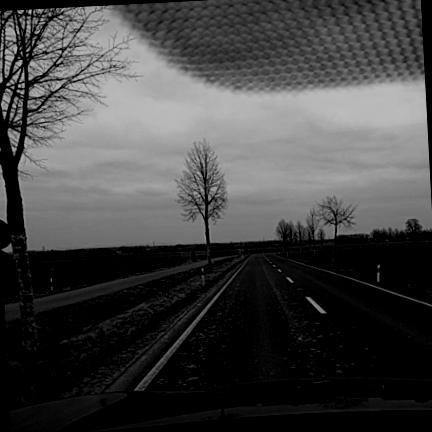Road: (146, 254, 431, 390), (33, 261, 205, 312)
